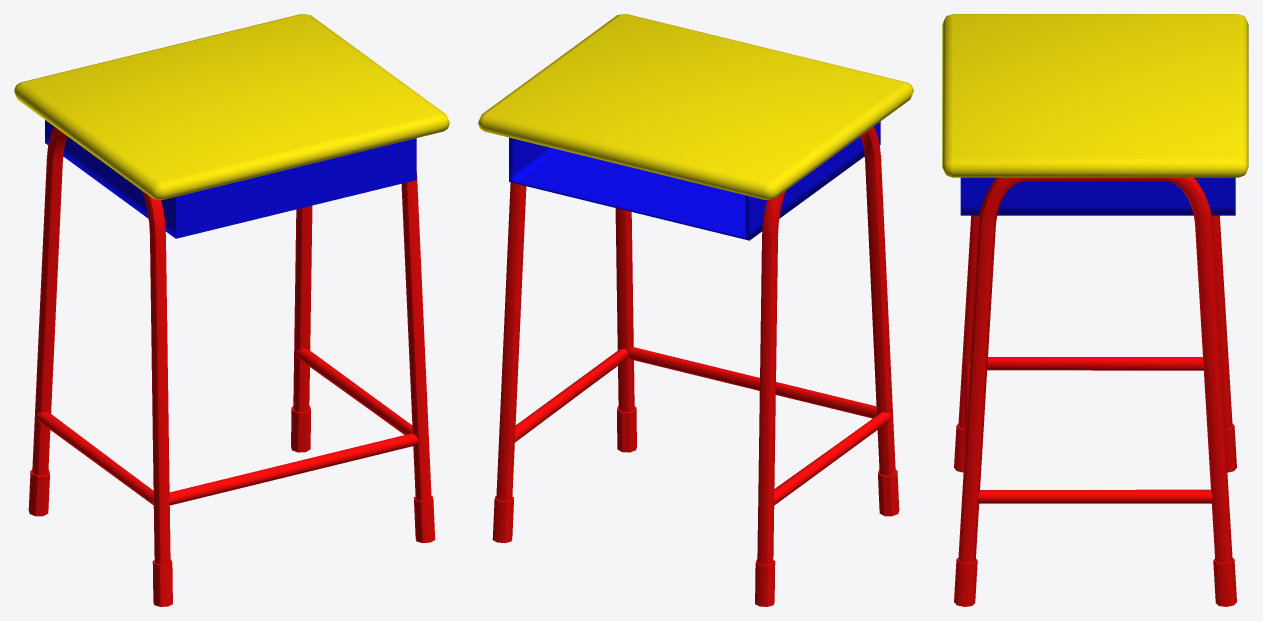
The model's file is desk.FBX.
The picture shows the model from 3 angles, left to right: view 1: azimuth 30°, elevation 25°; view 2: azimuth 150°, elevation 25°; view 3: azimuth 270°, elevation 25°; orthographic projection. The views are drawn at different scales.
Parts seen in each view (by area): view 1: desk; view 2: desk; view 3: desk.
Boxes of the visible parts, x1,y1,x2,y2 form: desk: (14,14,449,606); desk: (478,14,913,606); desk: (942,14,1248,606).
Size of what is drawn, in the model's own units: 8313 by 11406 by 7036.
